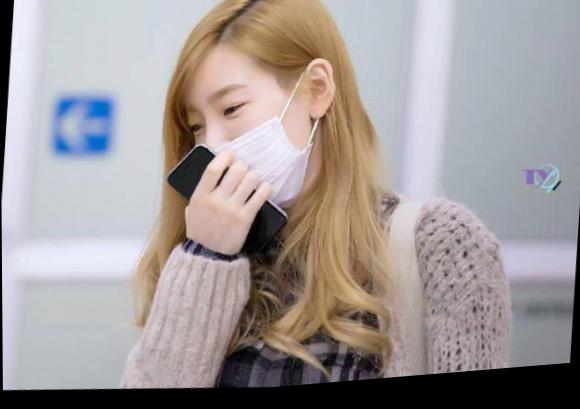WRONG: (180, 70, 316, 218)
